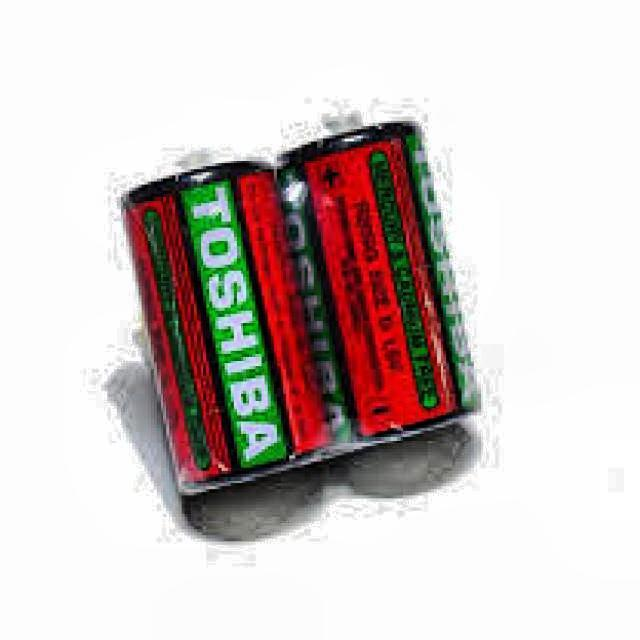battery: (120, 120, 474, 492)
